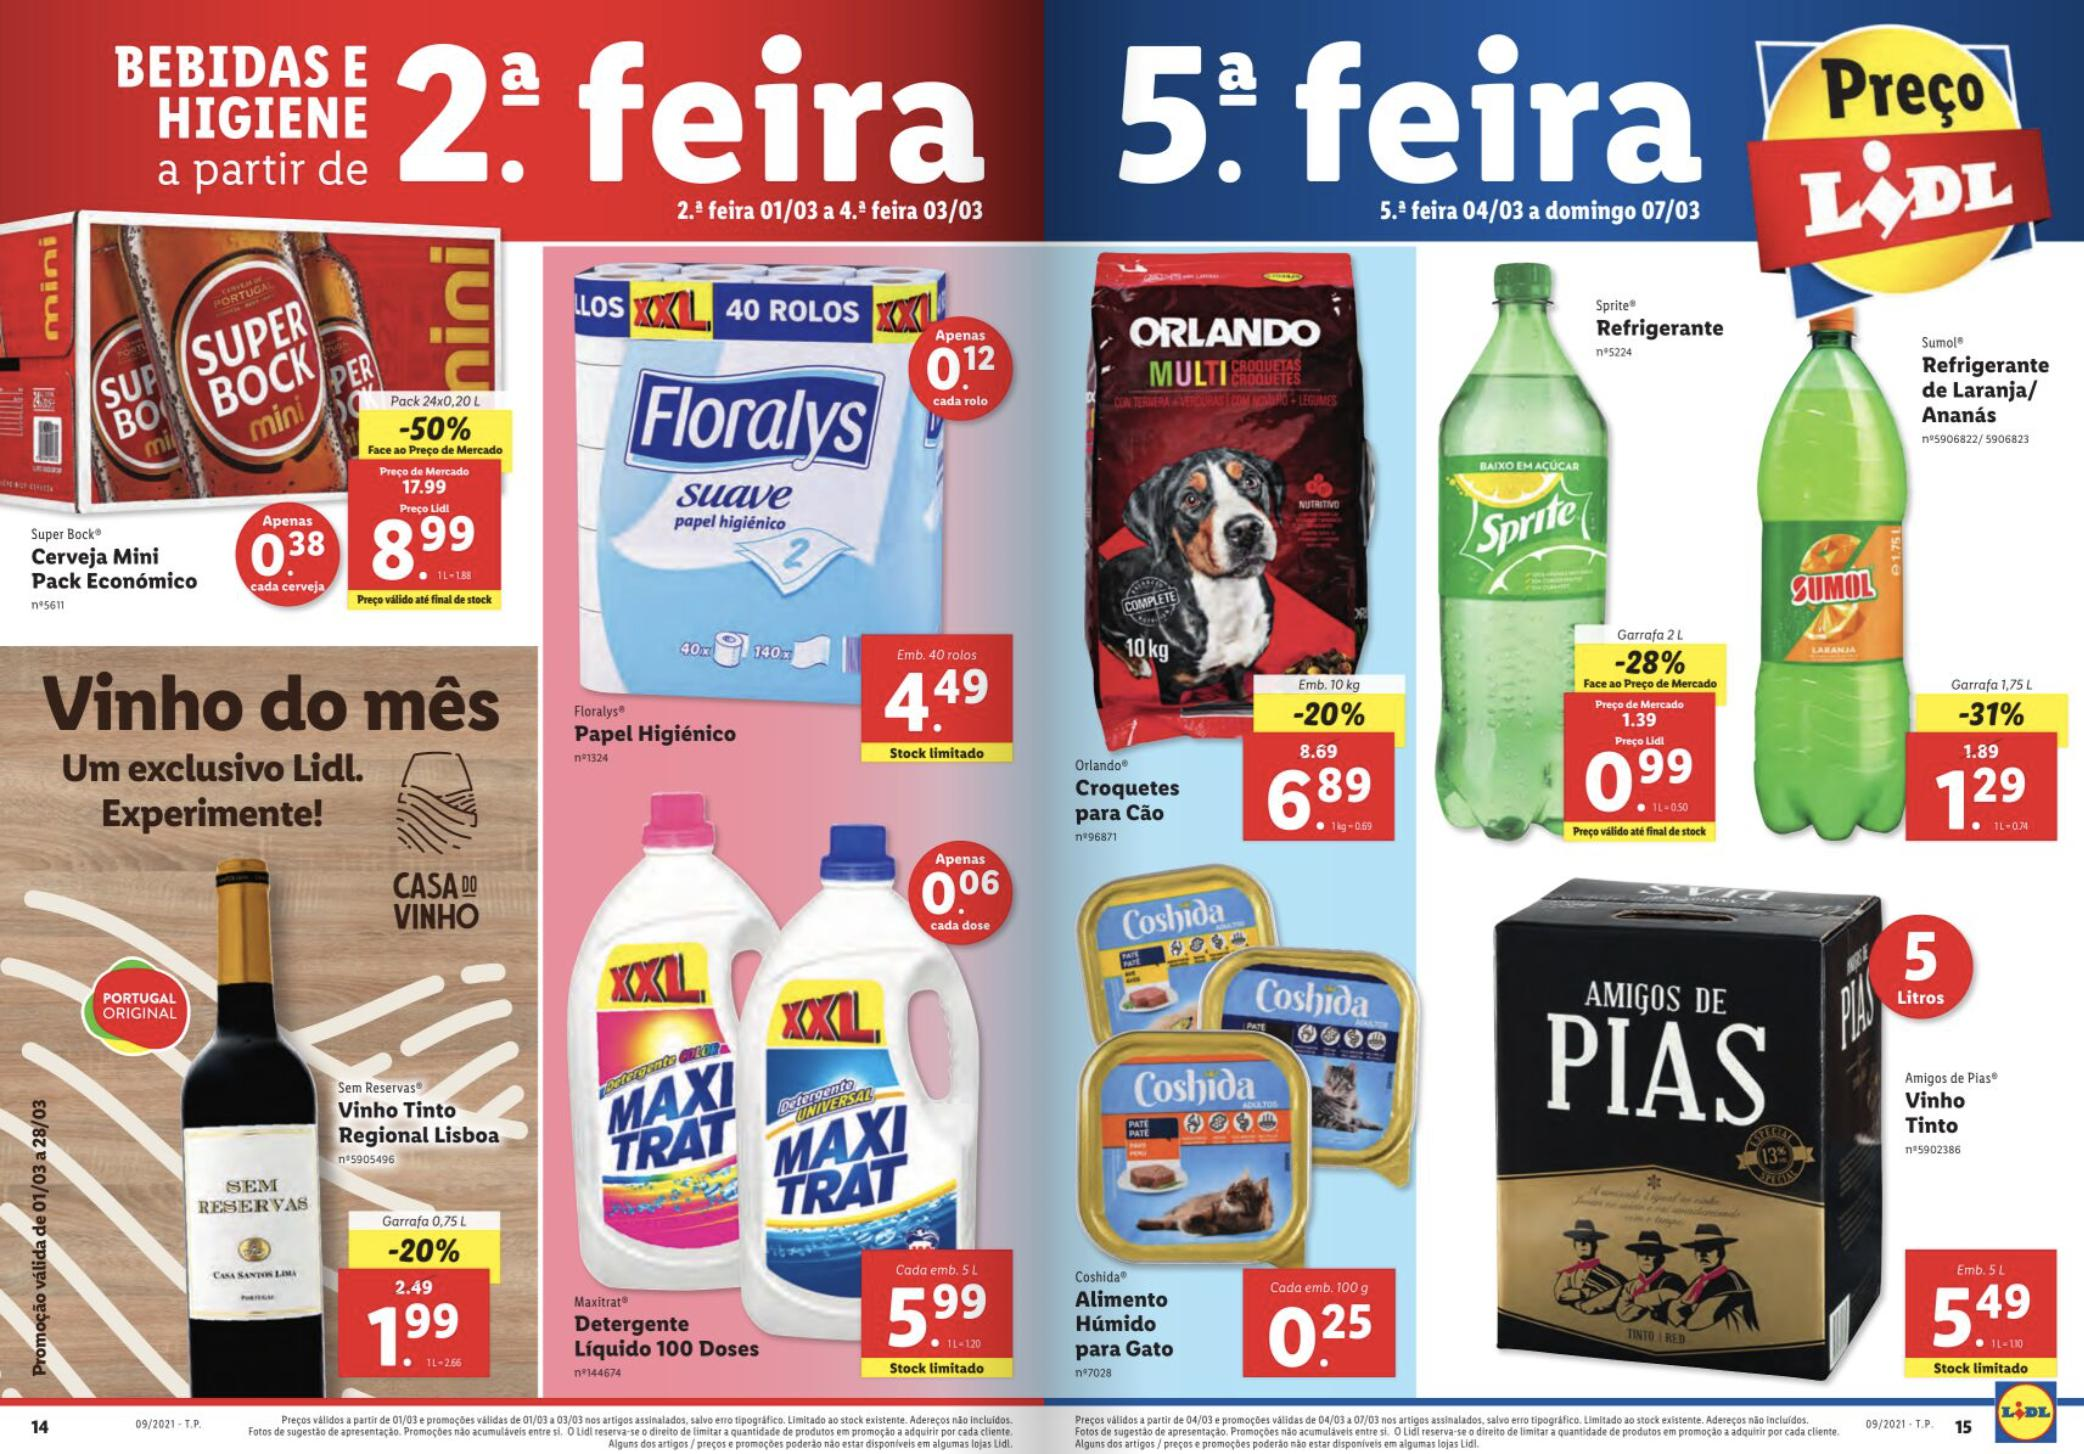name: (326, 1093, 511, 1159), (30, 540, 219, 599), (1915, 355, 2059, 431), (562, 1313, 771, 1364), (1071, 1285, 1186, 1372), (562, 706, 744, 760), (1071, 771, 1186, 828), (1588, 307, 1736, 352), (1903, 1087, 1965, 1147)
price: (359, 502, 507, 591), (1259, 1302, 1379, 1378), (1580, 743, 1694, 822), (880, 660, 994, 740), (1265, 763, 1389, 836), (880, 1285, 991, 1361), (1930, 767, 2041, 839), (363, 1302, 473, 1368), (1921, 1285, 2040, 1346)
product: (5, 660, 527, 1392), (1471, 863, 2068, 1378), (562, 781, 1028, 1384), (559, 257, 1025, 771), (5, 215, 551, 643), (1074, 246, 1406, 852), (1042, 852, 1406, 1381), (1420, 257, 1748, 843), (1758, 260, 2068, 863)
promotion: (1289, 695, 1371, 737), (397, 417, 483, 455), (1954, 695, 2030, 733), (380, 1237, 462, 1272), (1612, 646, 1691, 681)
